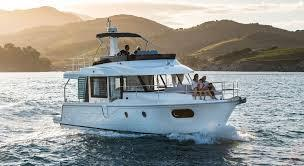Ship: (62, 25, 246, 134)
